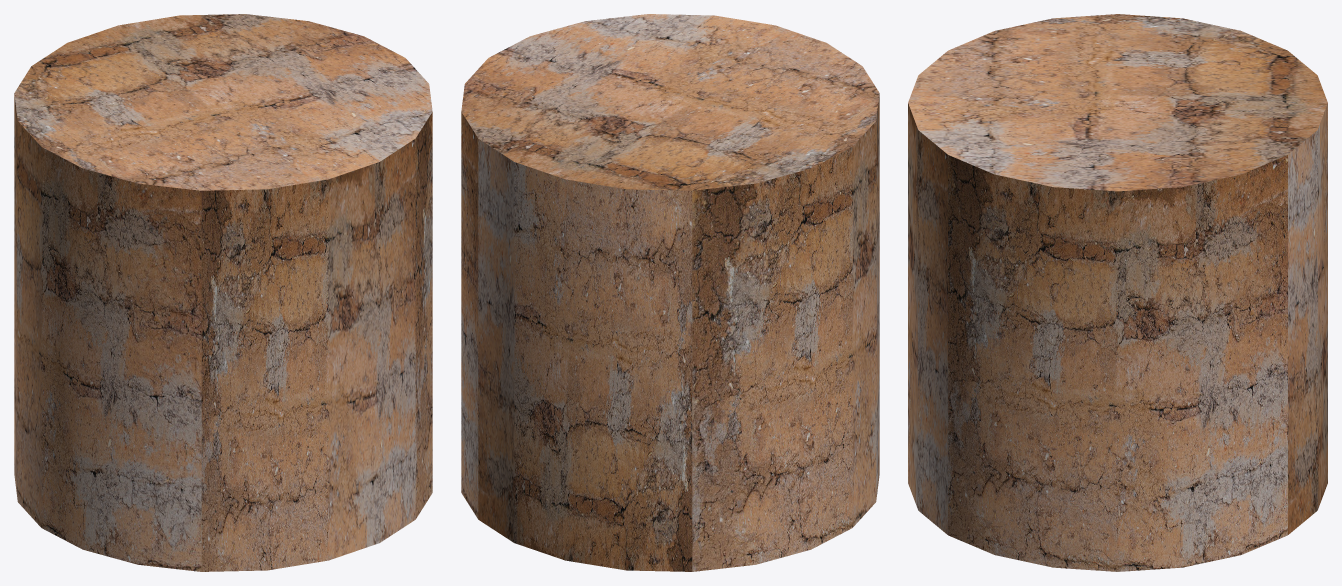
The model's file is hut.fbx.
The picture shows the model from 3 angles, left to right: view 1: azimuth 30°, elevation 25°; view 2: azimuth 150°, elevation 25°; view 3: azimuth 270°, elevation 25°; orthographic projection.
Visible parts, largest first — view 1: pCylinder1; view 2: pCylinder1; view 3: pCylinder1.
Part boxes in pixels (x1,y1,x2,y2): pCylinder1: (14,14,432,571); pCylinder1: (461,14,879,571); pCylinder1: (908,14,1327,571).
Size of the model in its own units: 2 by 2 by 2.
1 material, 1 textured.
